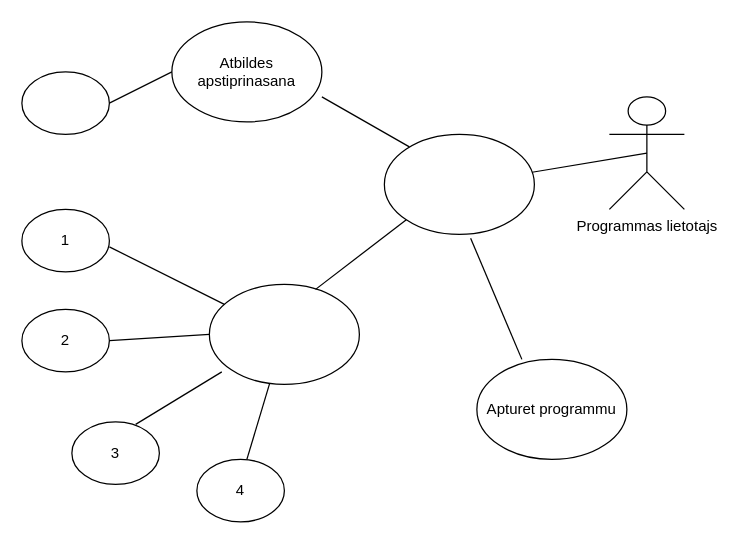
The diagram is 739 pixels wide and 544 high, and some of its shapes have lost their labels. The centre of each missing label's shape, as x and y in pixels:
Ciparu ievade: (283,333)
Enter: (65,102)
Koda startesana: (458,183)
